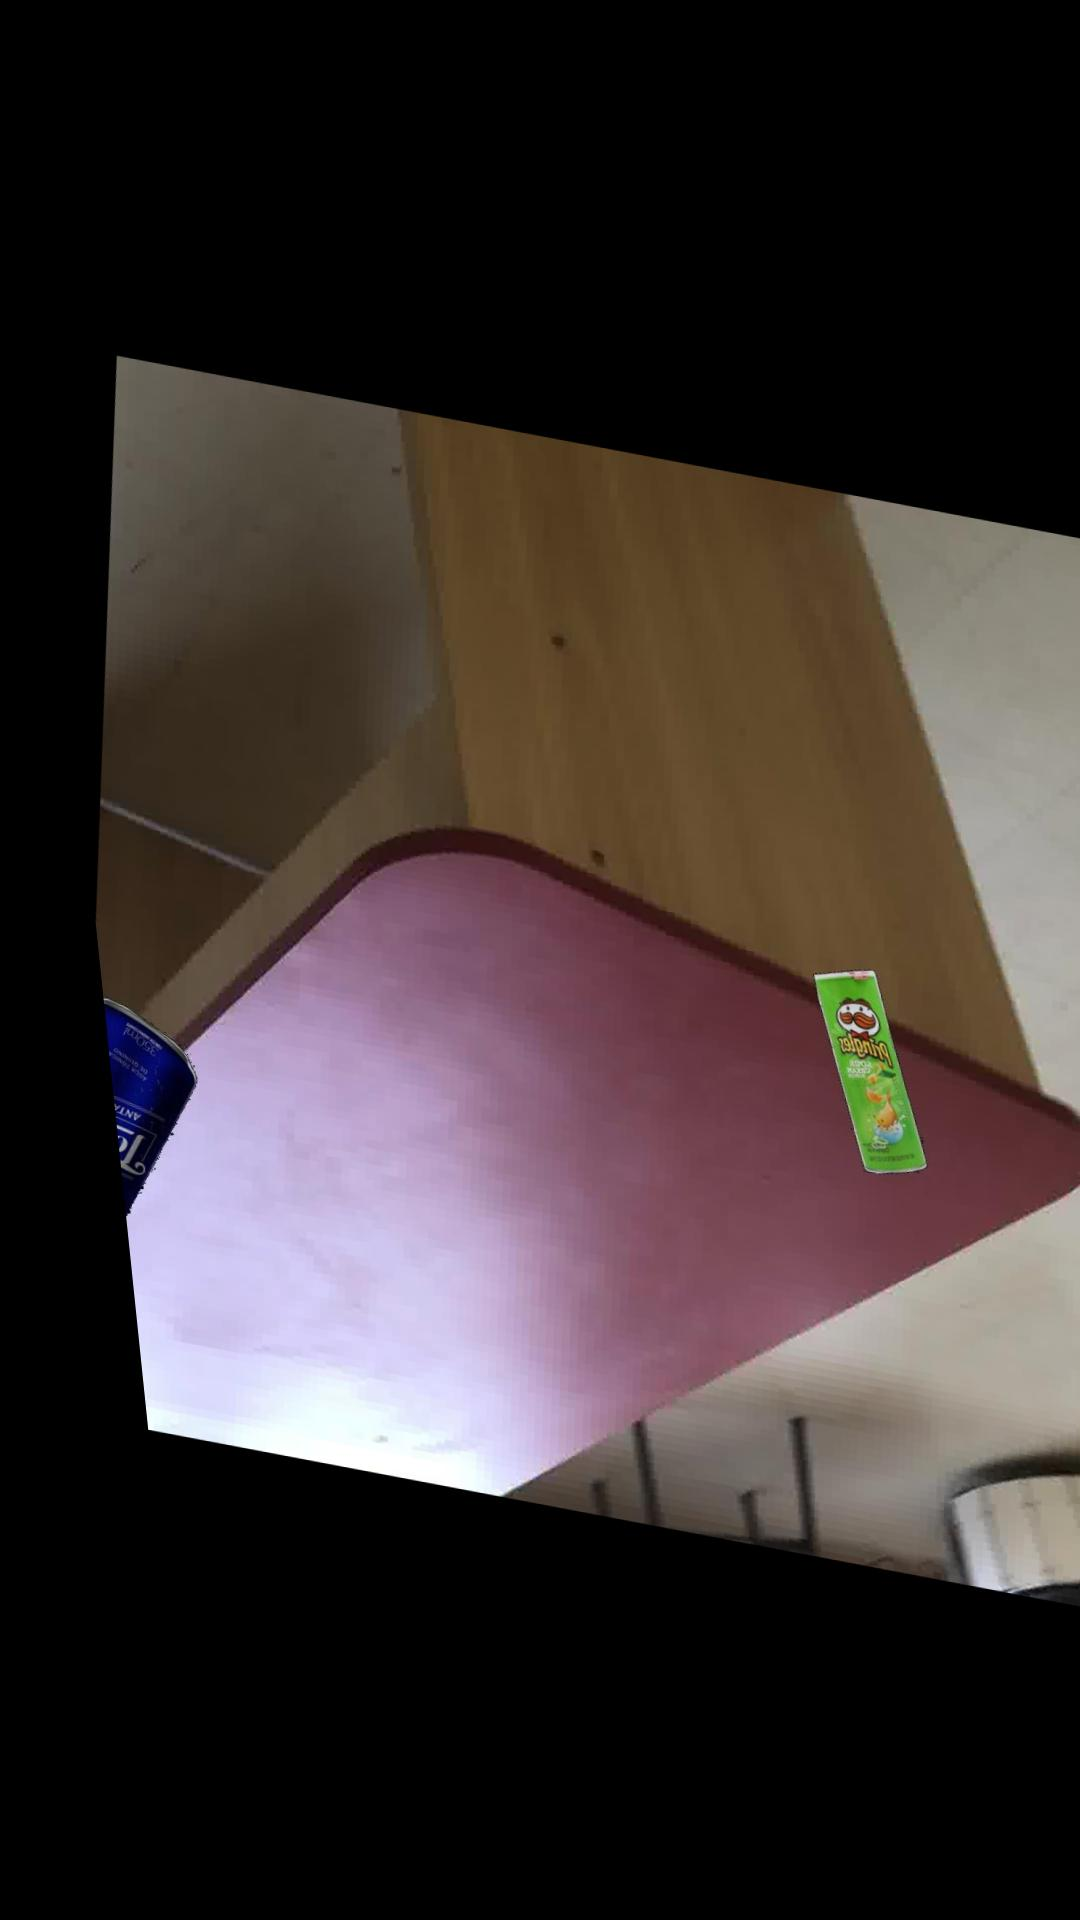pringles: (791, 957, 901, 1163)
tonic: (82, 994, 173, 1212)
